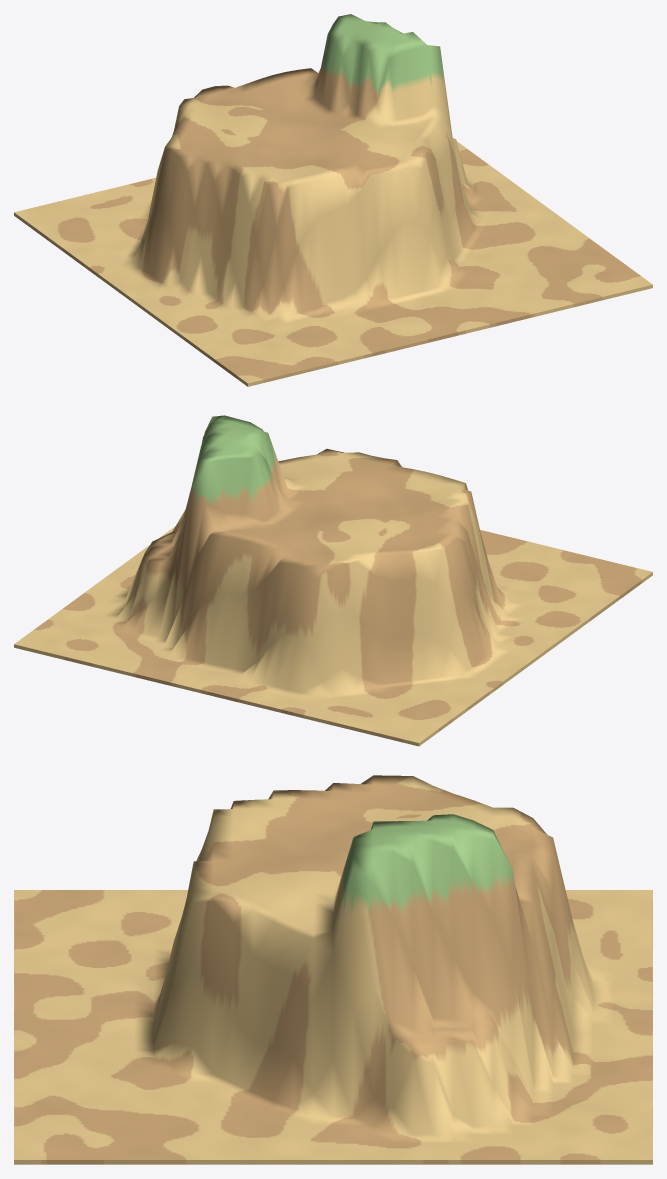
File: Desert_Mountains_09.obj
3 views of the same model, one above another, from view 1: azimuth 30°, elevation 25°; view 2: azimuth 150°, elevation 25°; view 3: azimuth 270°, elevation 25° (orthographic). The views are drawn at different scales.
Bounding box in the file's own units: 10 × 4.27 × 10.
Materials: 1 (1 with a texture image).
